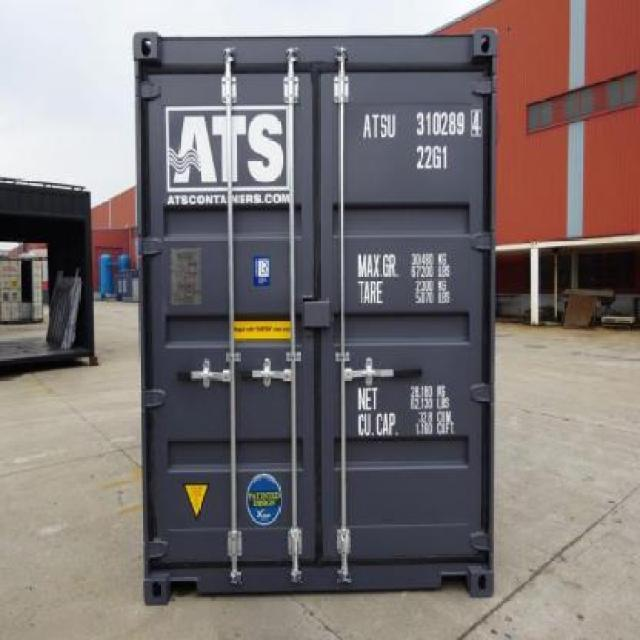ISO: (413, 144, 451, 171)
container_number: (358, 110, 479, 138)
